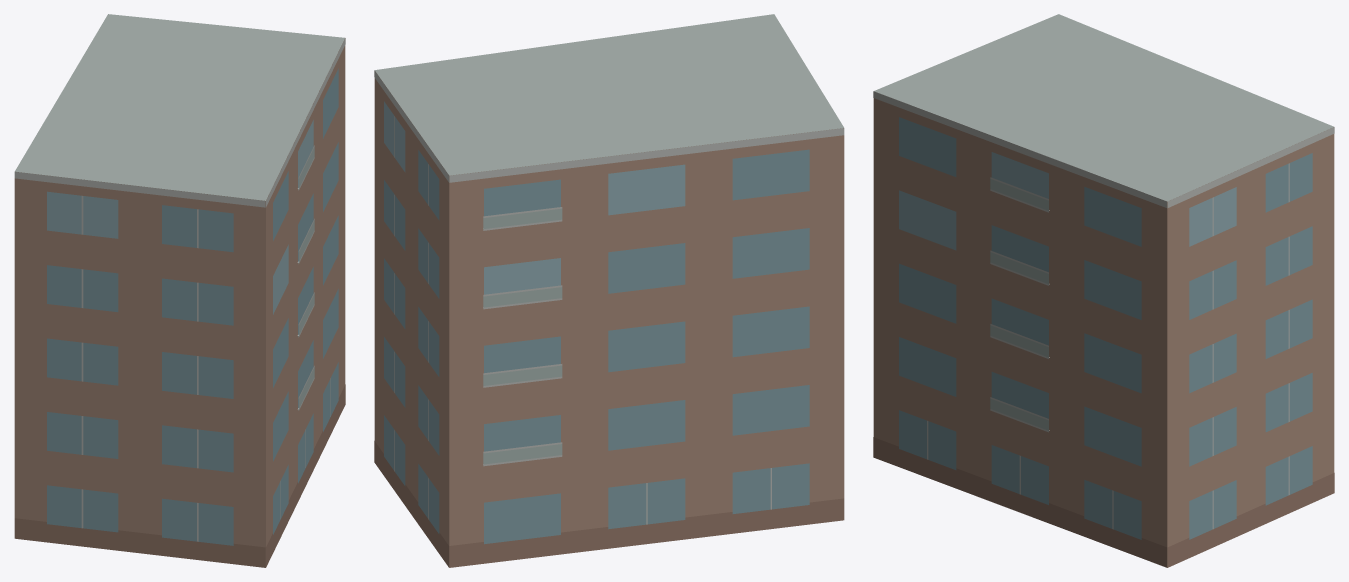
The model's file is survey-upis-32981529.glb.
3 renders of one model, left to right at view 1: azimuth 30°, elevation 25°; view 2: azimuth 150°, elevation 25°; view 3: azimuth 270°, elevation 25°, orthographic. The views are drawn at different scales.
Parts seen in each view (by area): view 1: survey-upis-32981529.tmp; view 2: survey-upis-32981529.tmp; view 3: survey-upis-32981529.tmp.
Boxes of the visible parts, x1,y1,x2,y2 form: survey-upis-32981529.tmp: (14,14,345,567); survey-upis-32981529.tmp: (374,14,844,567); survey-upis-32981529.tmp: (873,14,1334,567).
Size of the model in its own units: 14.5 by 13.2 by 15.06.
